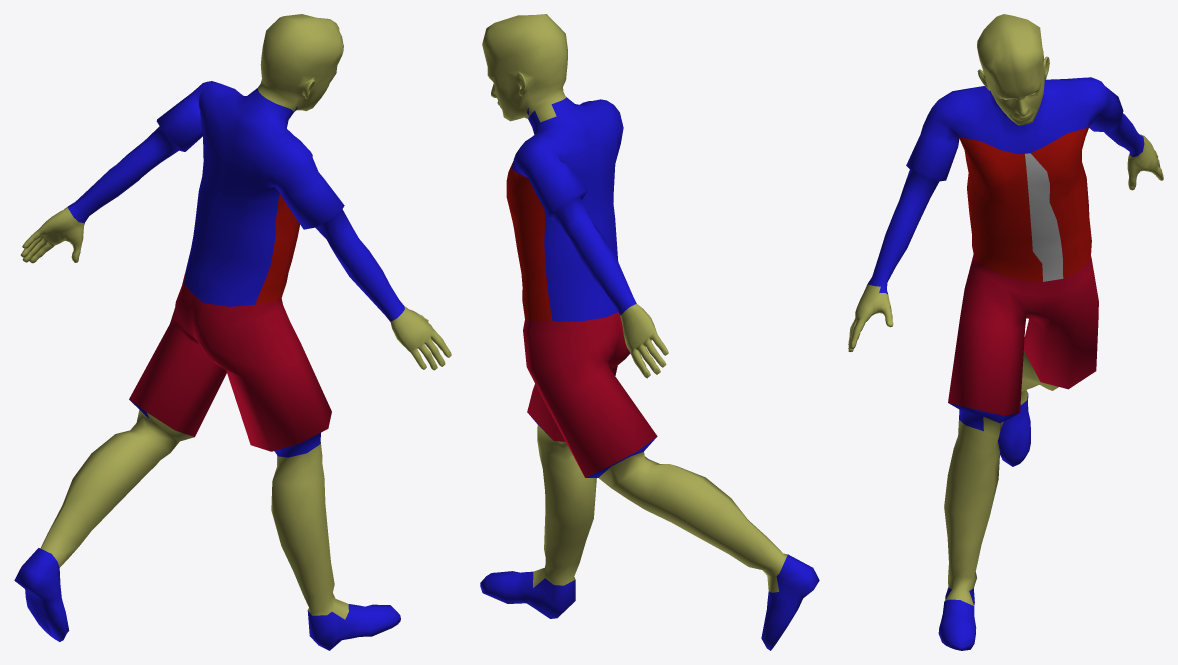
Rendered from player_000002.obj.
The picture shows the model from 3 angles, left to right: view 1: azimuth 30°, elevation 25°; view 2: azimuth 150°, elevation 25°; view 3: azimuth 270°, elevation 25°; orthographic projection.
Visible parts, largest first — view 1: soccerplayer_mesh; view 2: soccerplayer_mesh; view 3: soccerplayer_mesh.
Part boxes in pixels (bbox=[...]): soccerplayer_mesh: bbox=[14, 14, 451, 650]; soccerplayer_mesh: bbox=[480, 14, 819, 650]; soccerplayer_mesh: bbox=[848, 14, 1163, 650].
Size of the model in its own units: 3.2 by 5.24 by 2.47.
